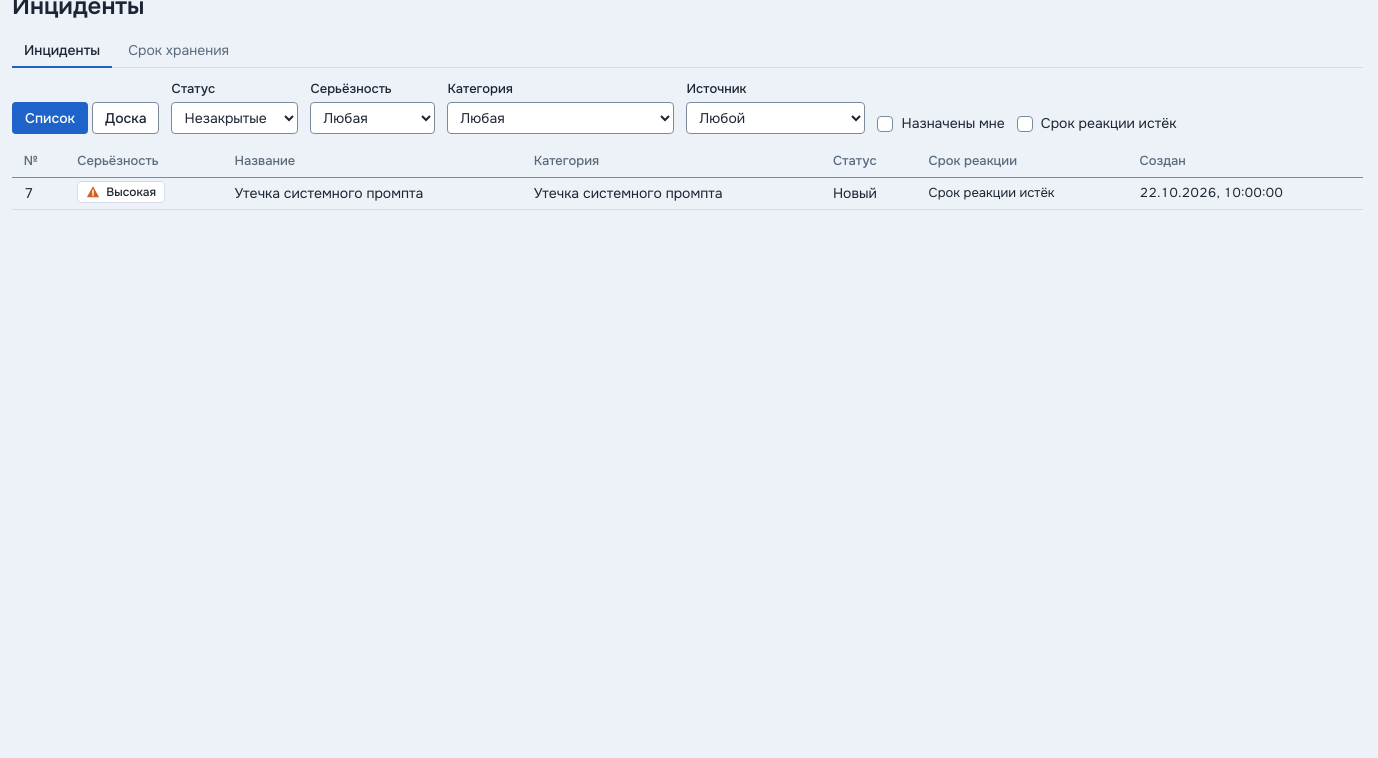
карточка инцидента › показывает поля, этапы, инструкцию, оповещения, хронологию; комментарий — только текстом
The image size is (1378, 758).
Click the button with aria-label "Открыть инцидент 7: Утечка системного промпта".
click(329, 193)  # box [234,183,423,204]
(page scrolled)
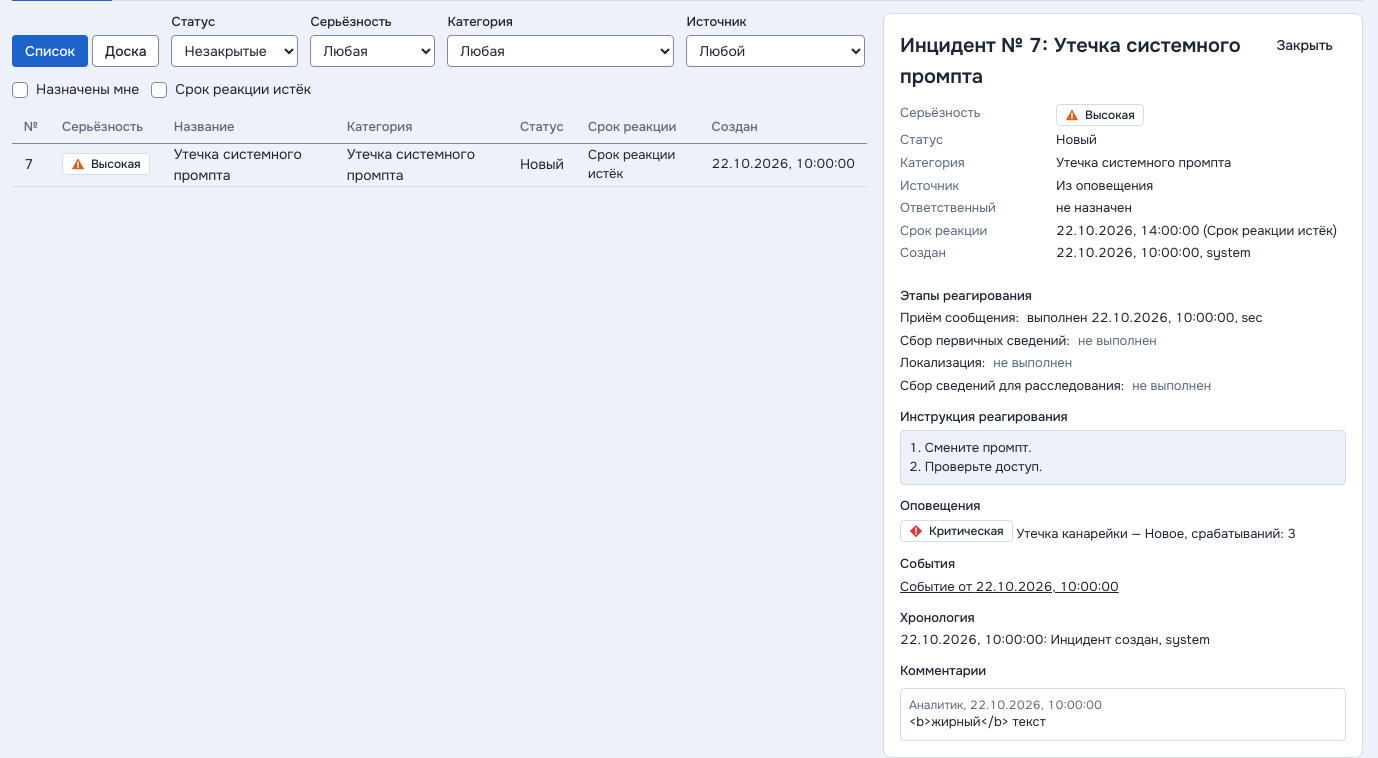
Check: the text "Приём сообщения:" is shown, box [900,309,1019,328]
Check: the heading "Инцидент № 7: Утечка системного промпта" is shown, box [900,30,1255,92]
Check: the element "Инструкция реагирования" shows "Смените промпт.", box [909,439,1042,475]
